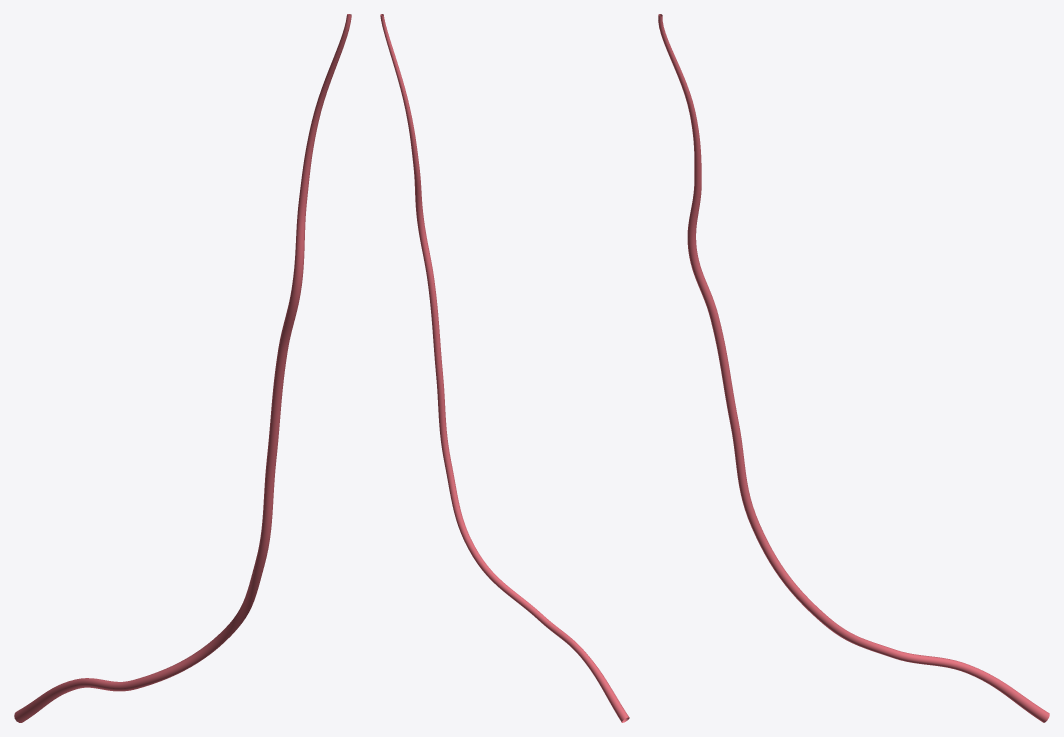
The picture shows the model from 3 angles, left to right: view 1: azimuth 30°, elevation 25°; view 2: azimuth 210°, elevation 25°; view 3: azimuth 270°, elevation 25°; orthographic projection. The views are drawn at different scales.
Visible parts, largest first — view 1: ZA_c6ecc8c40aa5a7aa; view 2: ZA_c6ecc8c40aa5a7aa; view 3: ZA_c6ecc8c40aa5a7aa.
Boxes of the visible parts, x1,y1,x2,y2 form: ZA_c6ecc8c40aa5a7aa: [14, 14, 351, 722]; ZA_c6ecc8c40aa5a7aa: [380, 14, 629, 722]; ZA_c6ecc8c40aa5a7aa: [658, 14, 1049, 722].
Size of the model in its own units: 0.0296 by 0.1875 by 0.0876.
